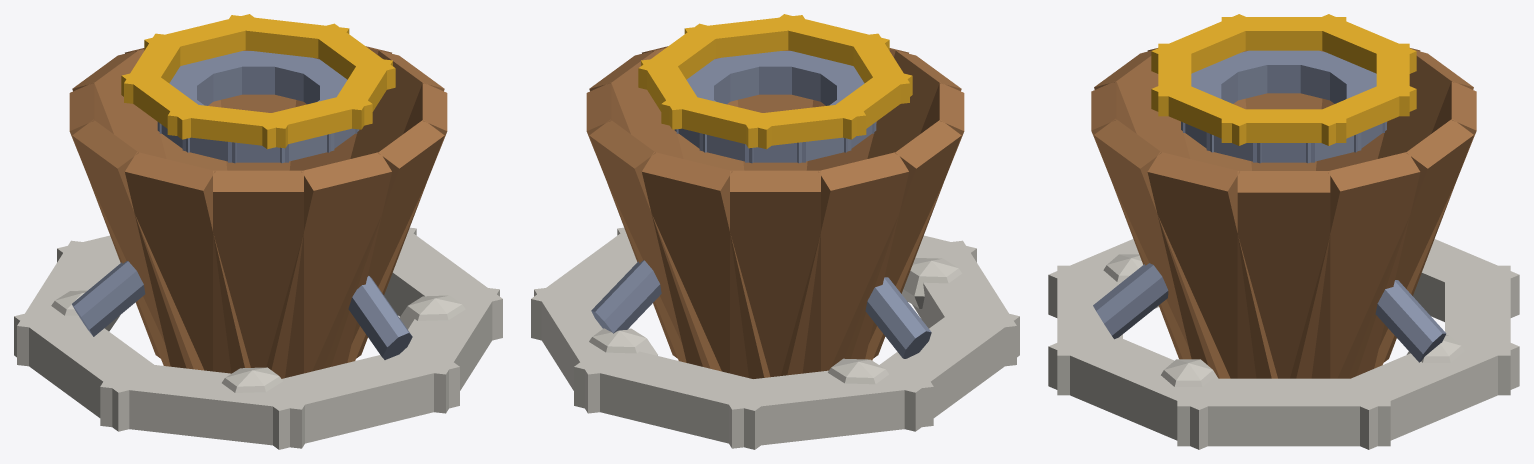
Rendered from geyser.glb.
3 renders of one model, left to right at view 1: azimuth 30°, elevation 25°; view 2: azimuth 150°, elevation 25°; view 3: azimuth 270°, elevation 25°, orthographic. The views are drawn at different scales.
Parts seen in each view (by area): view 1: geyser; view 2: geyser; view 3: geyser.
Boxes of the visible parts, x1,y1,x2,y2 form: geyser: (14,14,502,449); geyser: (531,14,1019,449); geyser: (1048,14,1519,449).
Bounding box in the file's own units: 1.5 × 1 × 1.5.
